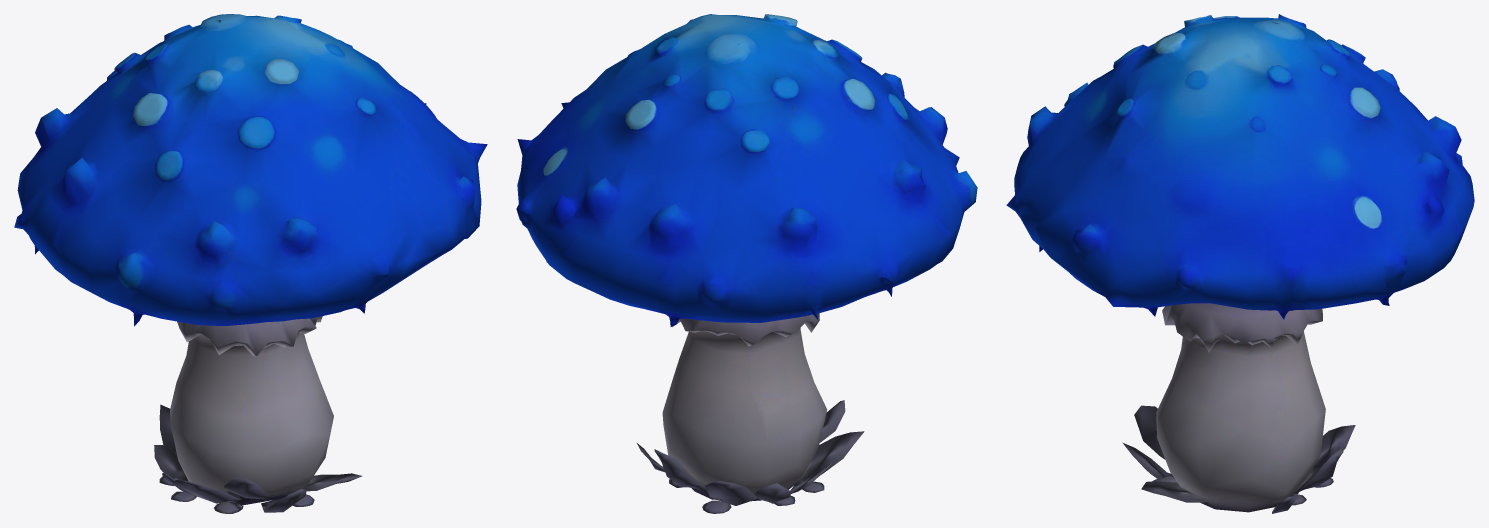
File: glow-mushroom-large.glb
3 renders of one model, left to right at view 1: azimuth 30°, elevation 25°; view 2: azimuth 150°, elevation 25°; view 3: azimuth 270°, elevation 25°, orthographic. The views are drawn at different scales.
Visible parts, largest first — view 1: tripo_node_b7240512-e541-4872-b8d1-58fc8c0661fc; view 2: tripo_node_b7240512-e541-4872-b8d1-58fc8c0661fc; view 3: tripo_node_b7240512-e541-4872-b8d1-58fc8c0661fc.
Boxes of the visible parts, x1,y1,x2,y2 form: tripo_node_b7240512-e541-4872-b8d1-58fc8c0661fc: (14,14,487,513); tripo_node_b7240512-e541-4872-b8d1-58fc8c0661fc: (516,14,977,513); tripo_node_b7240512-e541-4872-b8d1-58fc8c0661fc: (1006,14,1474,513).
Bounding box in the file's own units: 0.9394 × 0.998 × 0.9161.
Materials: 1 (1 with a texture image).
